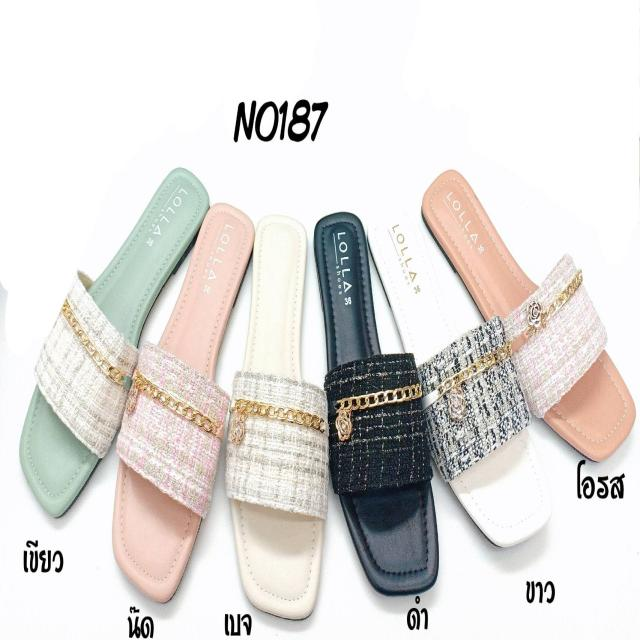bej: (230, 210, 320, 620)
black: (311, 208, 448, 590)
green: (24, 168, 207, 526)
nood: (115, 205, 252, 592)
orot: (424, 168, 634, 460)
white: (365, 203, 550, 552)
